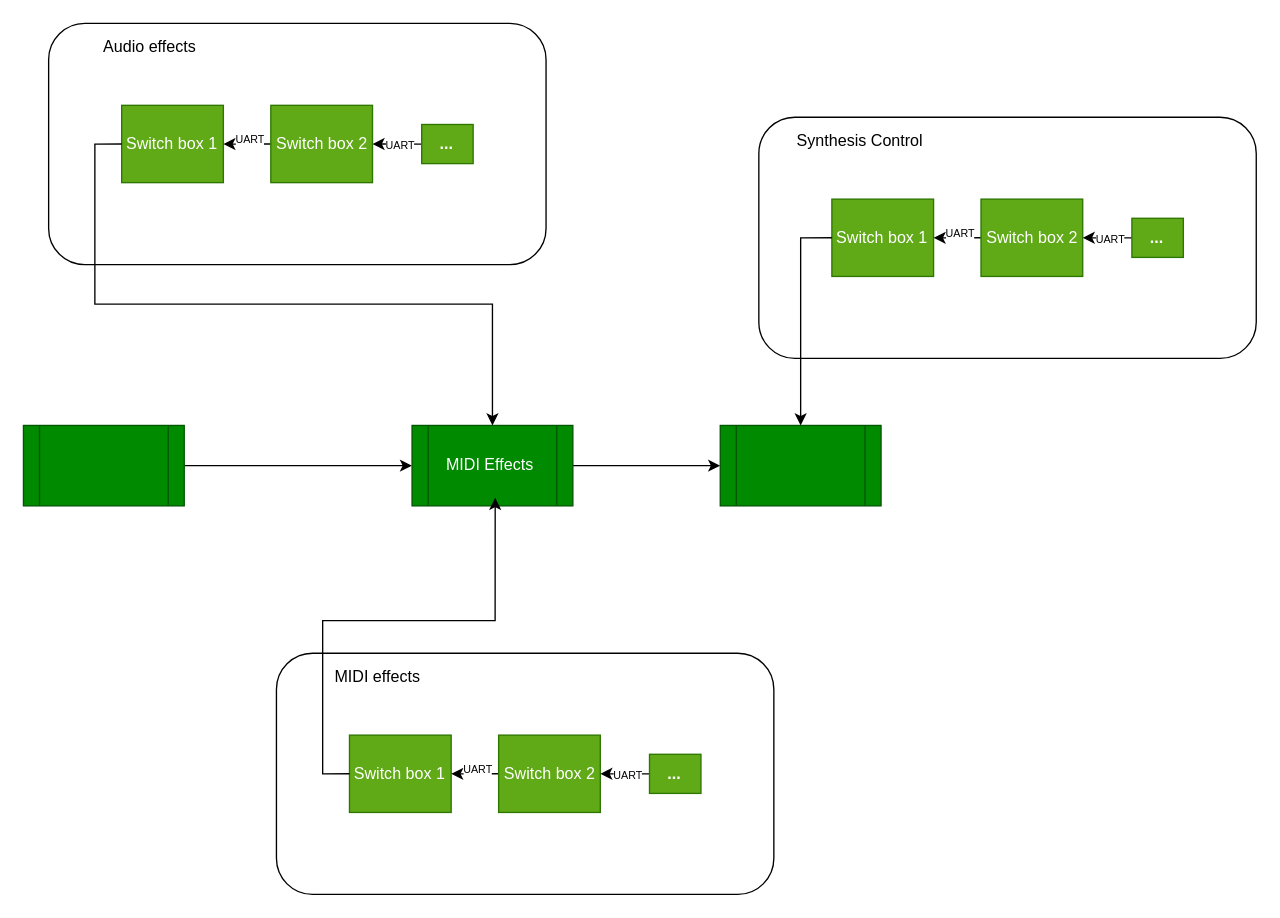
Some shapes in this 1280 by 918 pixel diagram are drawn without their labels. The centre of each missing label's shape, as x and y in pixels:
"Key/Breath sensor handling" belongs at point (103, 465).
"Synthesis+Audio effects" belongs at point (800, 465).
